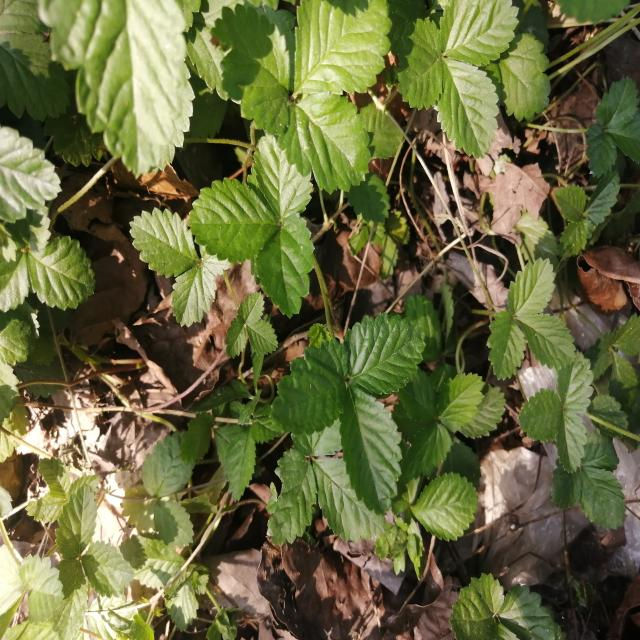Mock_strawberry: (222, 1, 414, 190), (269, 320, 433, 500), (177, 133, 336, 298)
